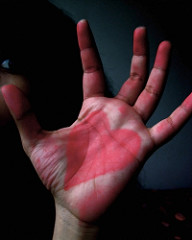palm: (51, 103, 136, 214)
